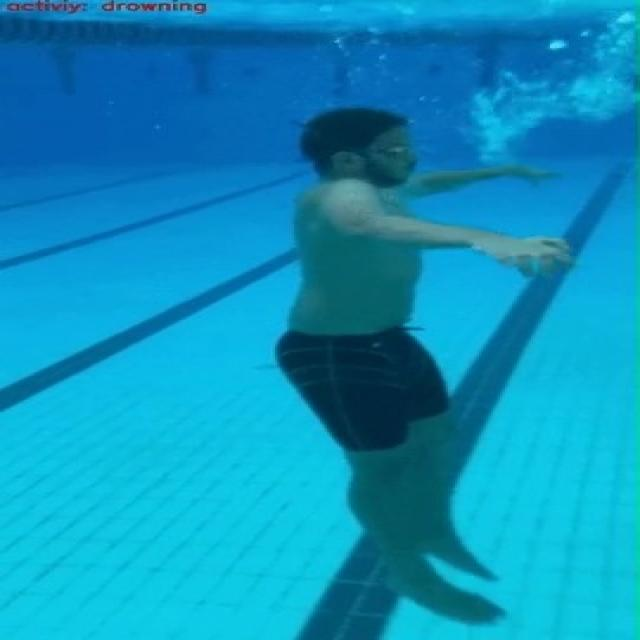Drowning: (270, 100, 583, 626)
